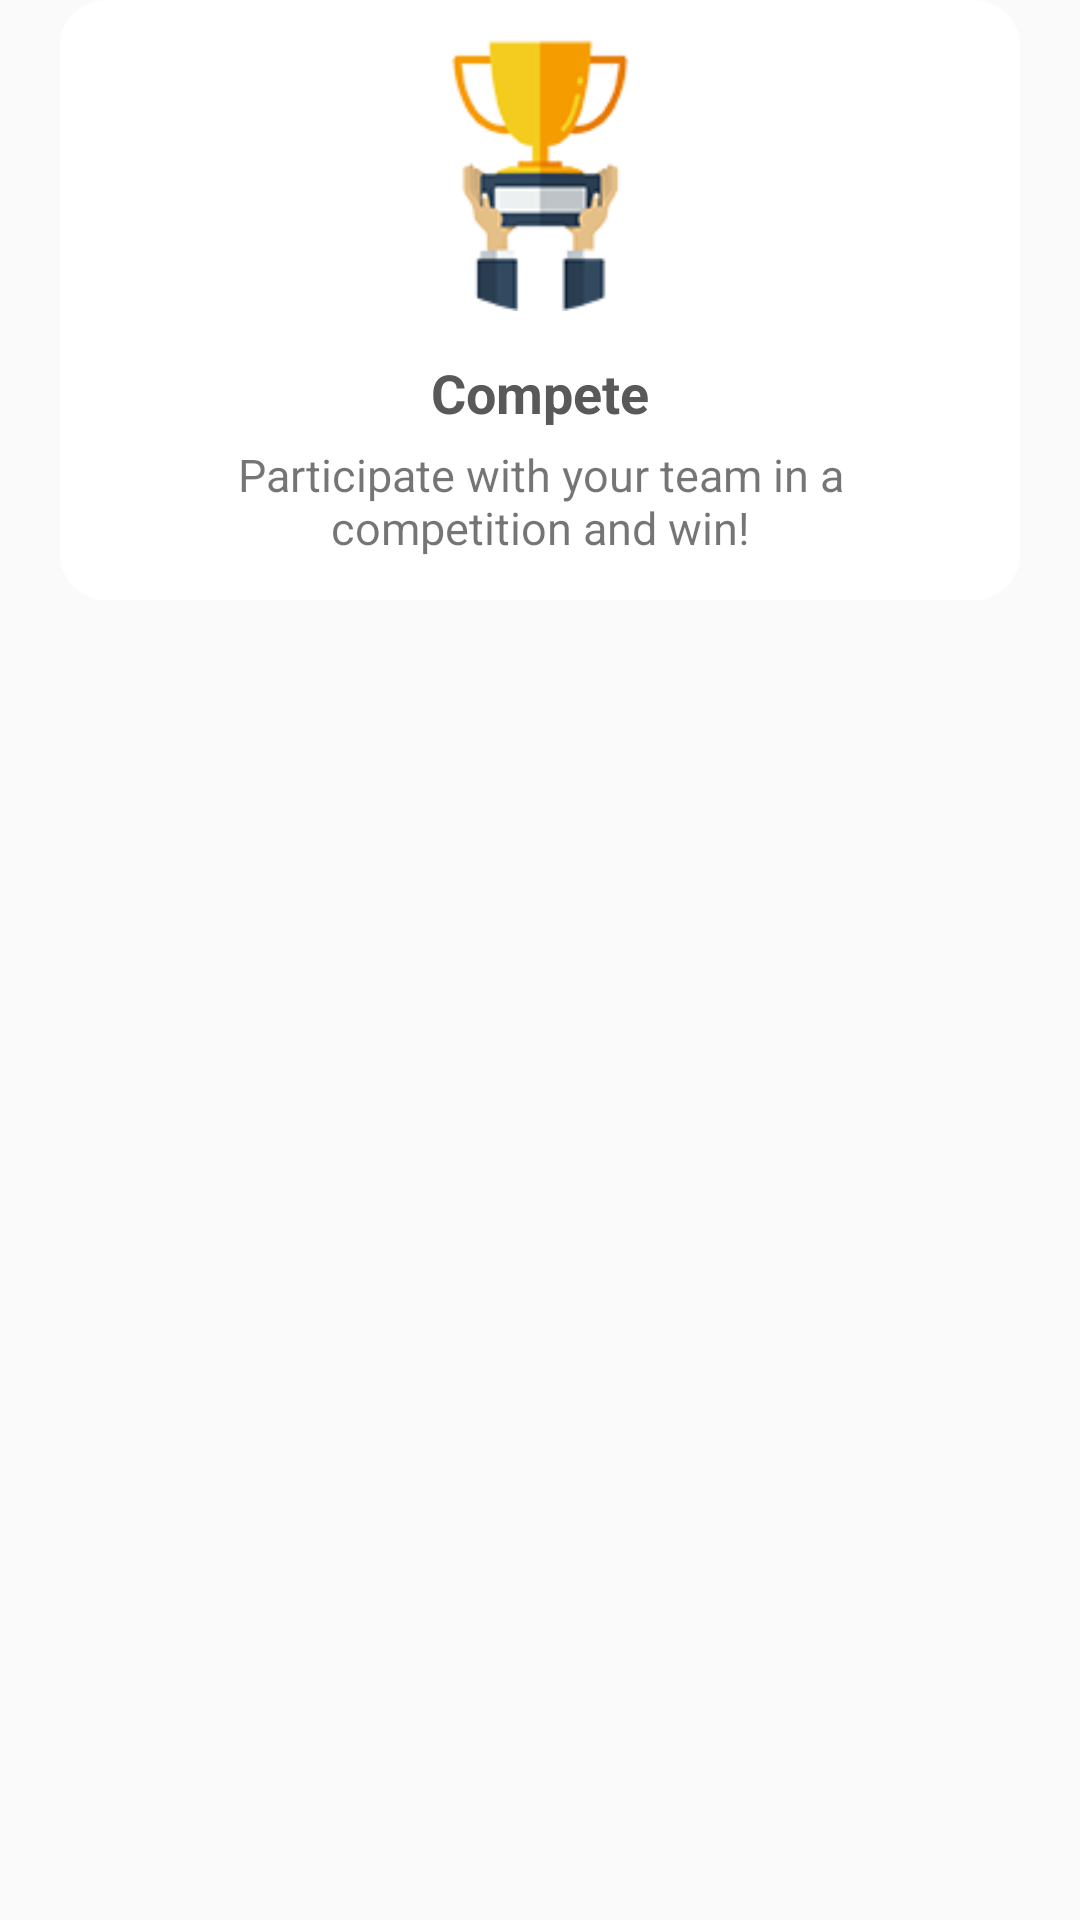

Icons on this 1080×1920 Android screen, each with its box as (x1, y1, x2, y2):
trophy: (452, 40, 628, 311)
